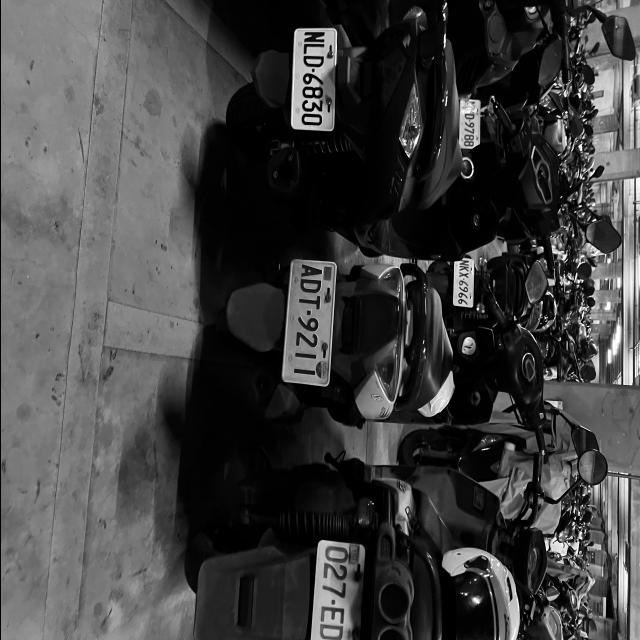-: (329, 598, 336, 606), (306, 310, 312, 316), (310, 68, 314, 72), (468, 120, 470, 122), (462, 278, 464, 280)
0: (323, 546, 349, 564), (300, 114, 322, 125)
1: (292, 368, 316, 376), (293, 352, 318, 359)
2: (321, 564, 346, 579), (295, 332, 319, 346)
3: (301, 100, 323, 112)
6: (301, 72, 323, 86), (457, 298, 467, 306), (458, 292, 468, 298), (458, 280, 468, 286)
7: (320, 582, 347, 598), (463, 128, 474, 134)
8: (301, 87, 323, 98), (464, 134, 474, 140), (463, 141, 473, 147)
9: (296, 316, 318, 332), (464, 122, 474, 128), (458, 286, 468, 292)
A: (300, 264, 322, 276)
D: (318, 625, 346, 639), (298, 278, 322, 294), (302, 56, 324, 67), (464, 114, 474, 120)
E: (320, 606, 345, 622)
K: (458, 266, 468, 272)
L: (302, 43, 324, 55)
N: (302, 32, 324, 44), (458, 260, 468, 266)
P: (283, 263, 335, 387), (292, 26, 334, 130), (454, 258, 474, 306), (460, 101, 480, 149)
T: (296, 296, 322, 310)
X: (458, 273, 468, 277)
